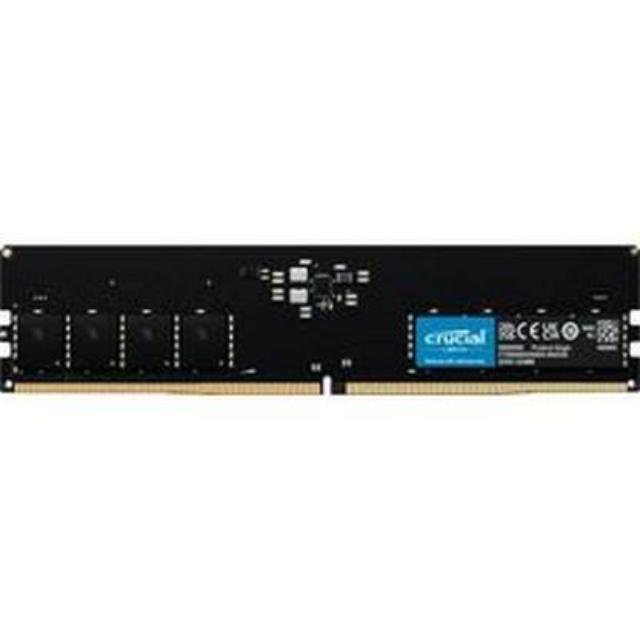RAM: (0, 238, 640, 404)
